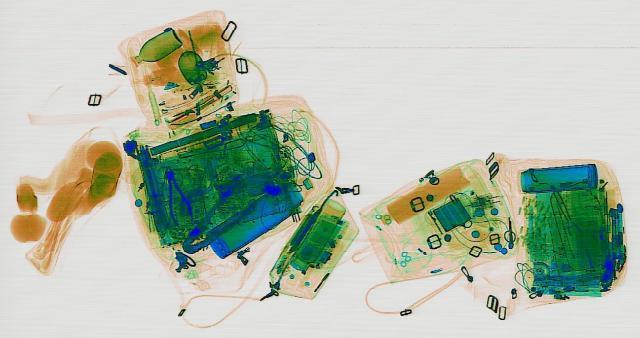Pliers: (164, 172, 280, 255), (156, 168, 197, 224)
